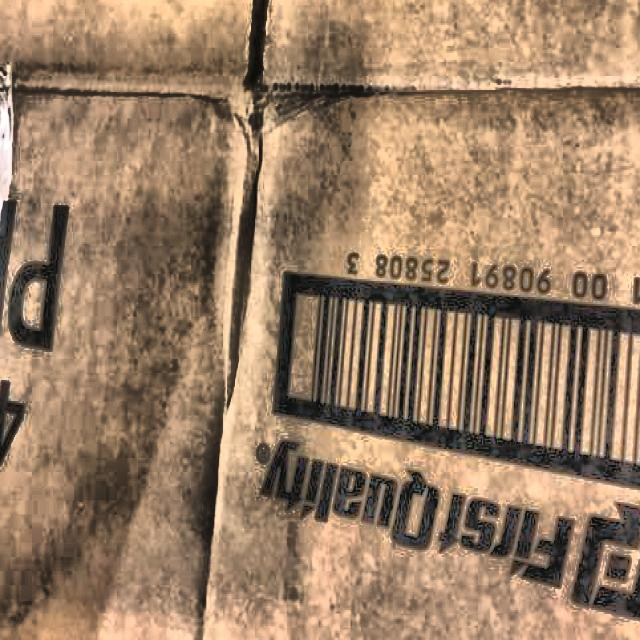cardboard: (199, 87, 640, 640)
